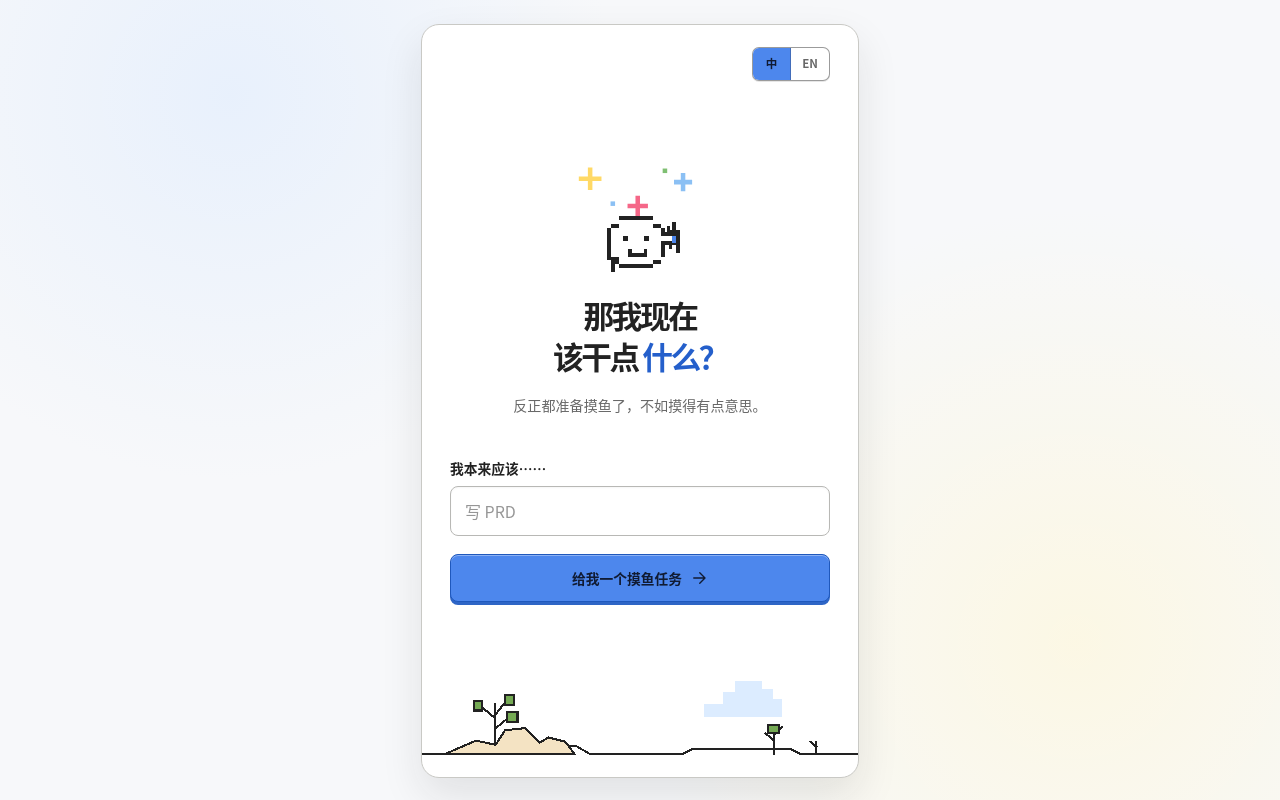
Test: main escape flow › relocalizes the selected escape and share card in place
Type "整理会议记录" into the field labelled "我本来应该……". click: (640, 511)
box: [450,486,830,536]
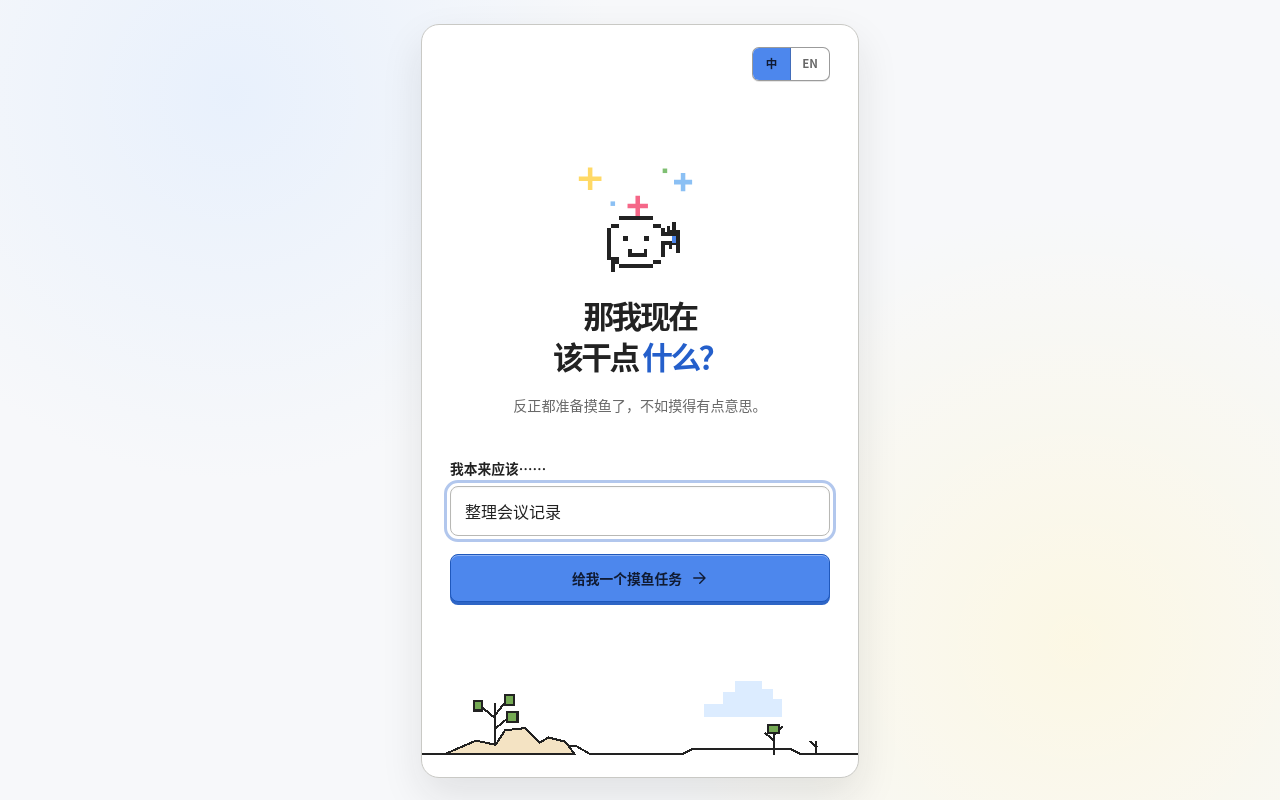
Click the button "给我一个摸鱼任务". click: (640, 578)
box: [450,554,830,602]
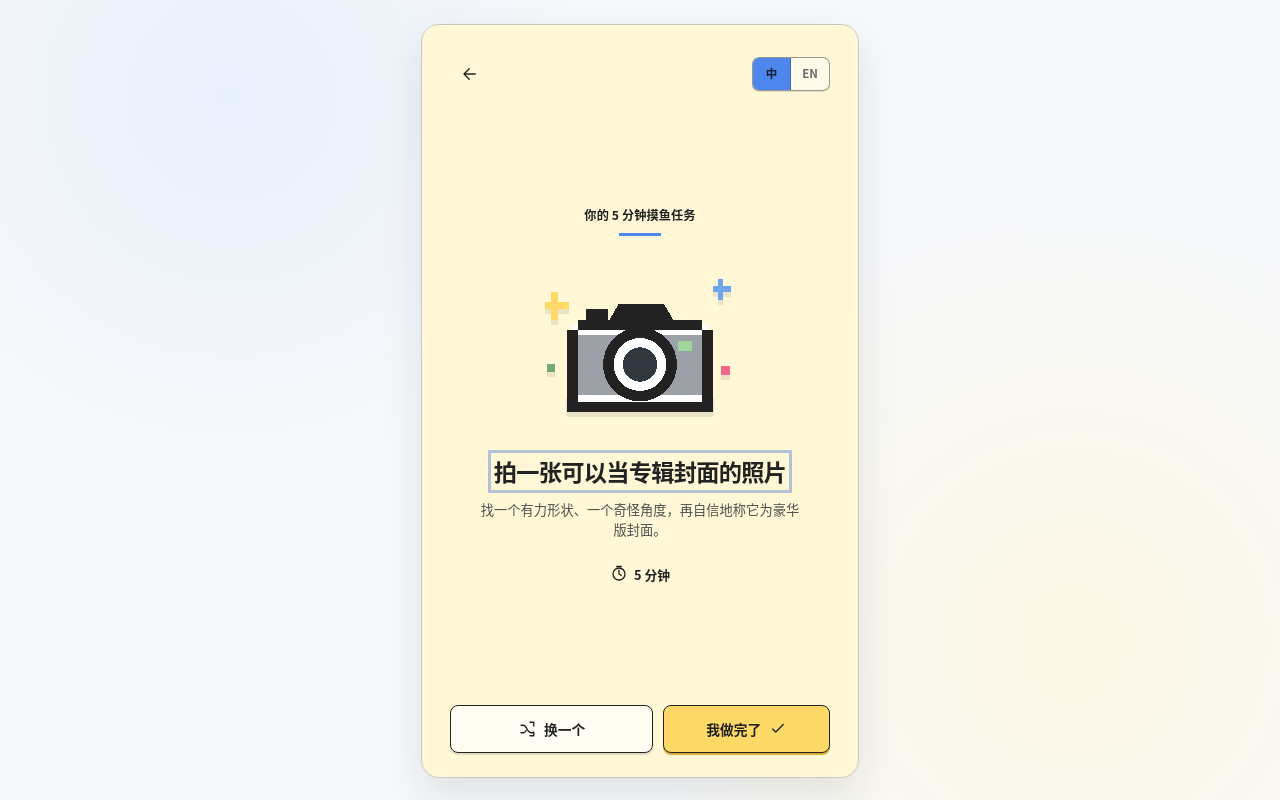
Click the button with aria-label "Switch to English". click: (810, 74)
box: [791,58,829,90]
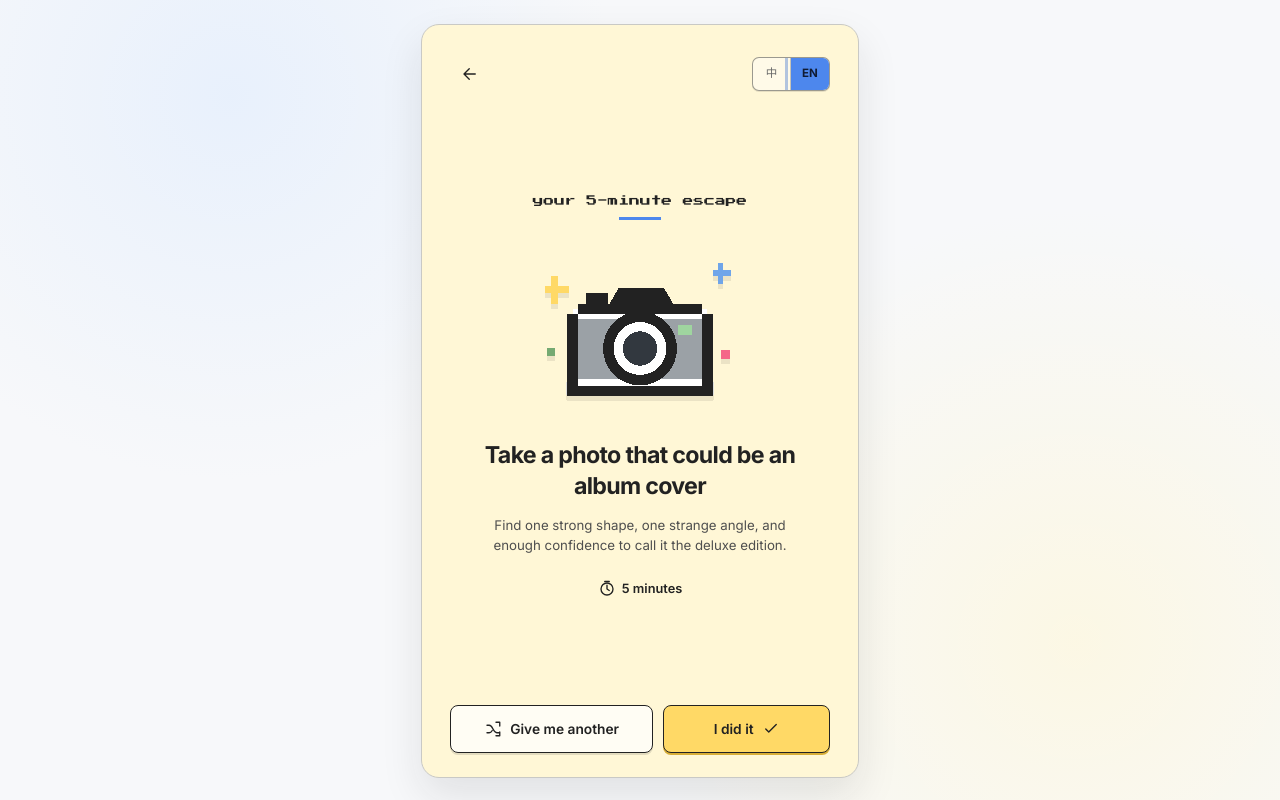
Now the text "Your 5-minute escape" is shown, box [533,192,747,209]
Click the button "I did it". click: (747, 729)
box: [663,705,830,753]
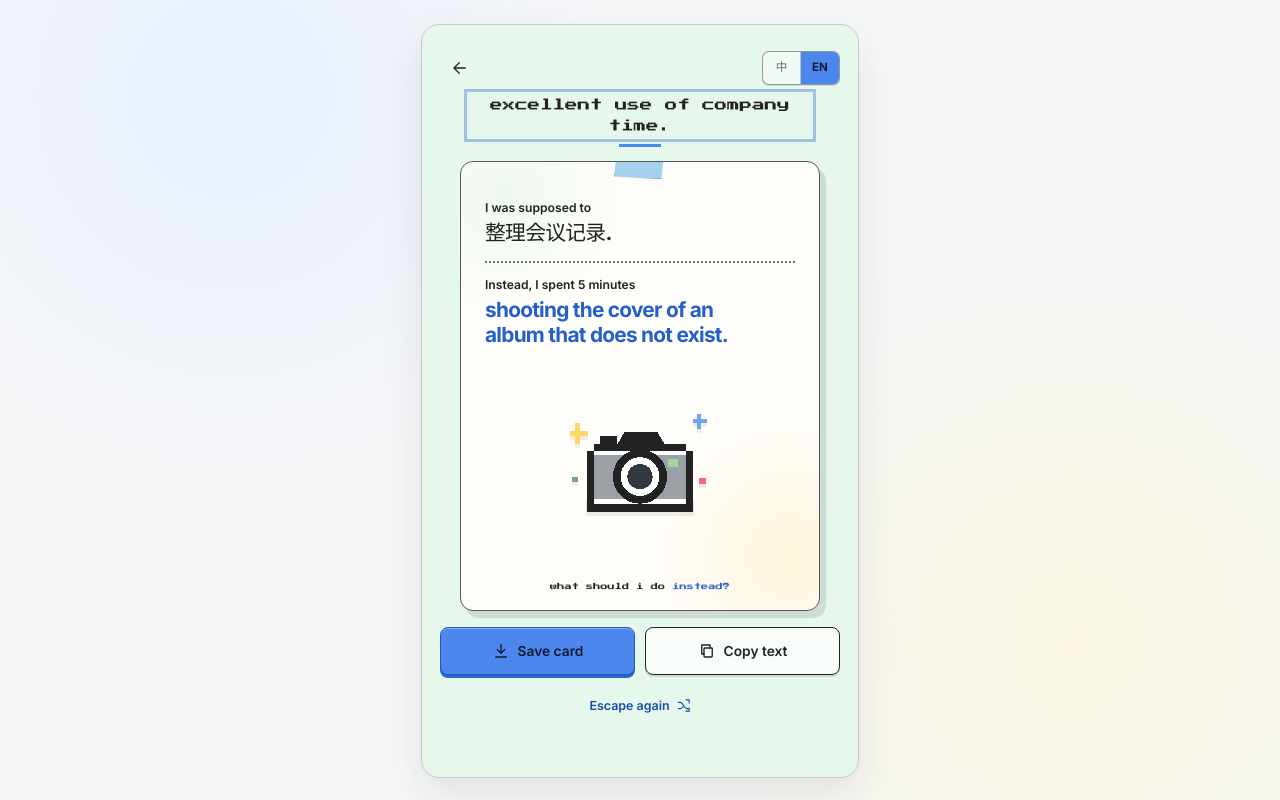
Click the button named "切换到中文". click: (782, 68)
box: [763,52,801,84]
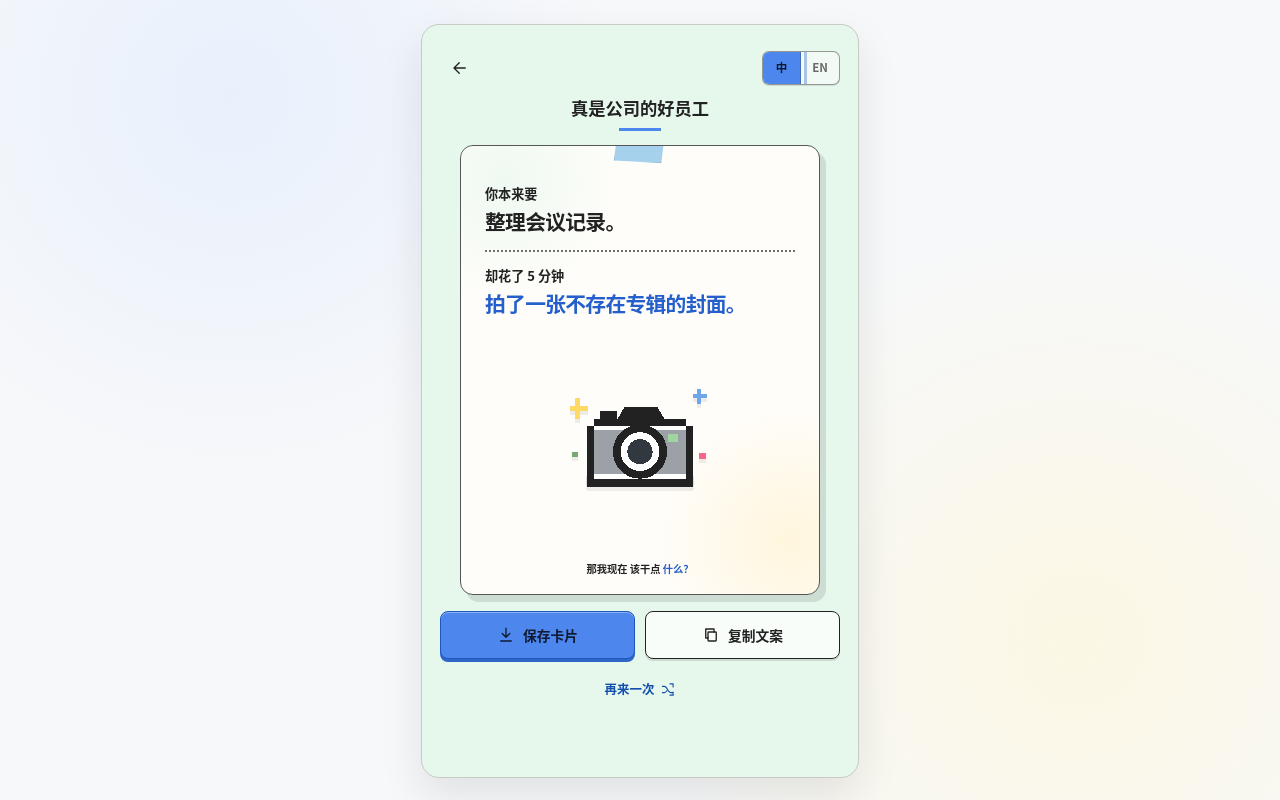
Now the heading "真是公司的好员工" is shown, box [571,95,709,120]
